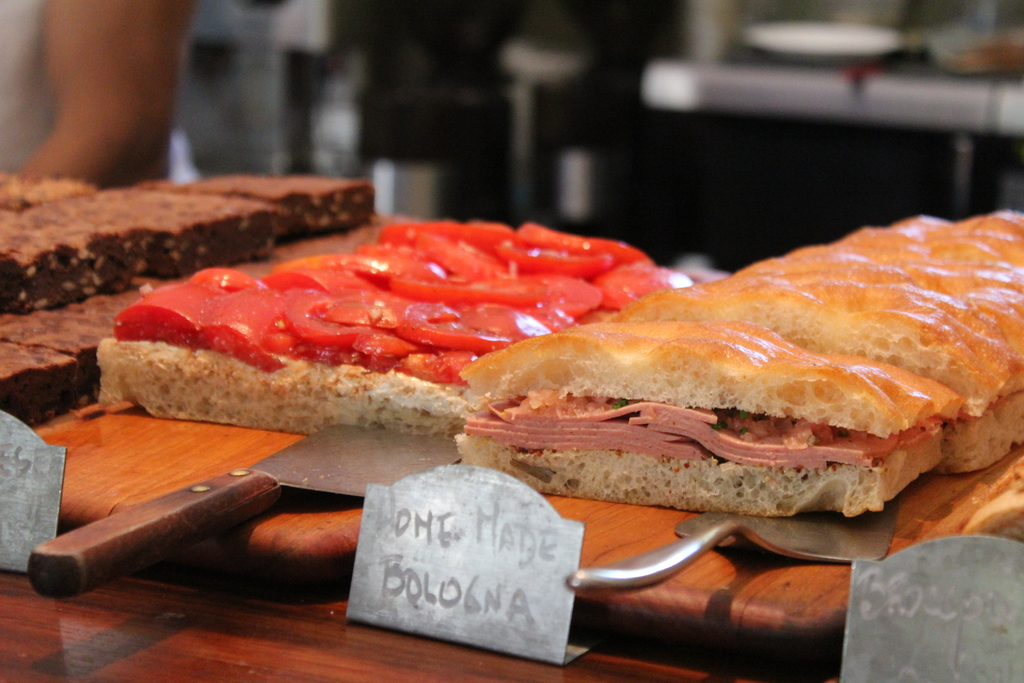sandwich: (452, 214, 1023, 515), (97, 211, 689, 436)
